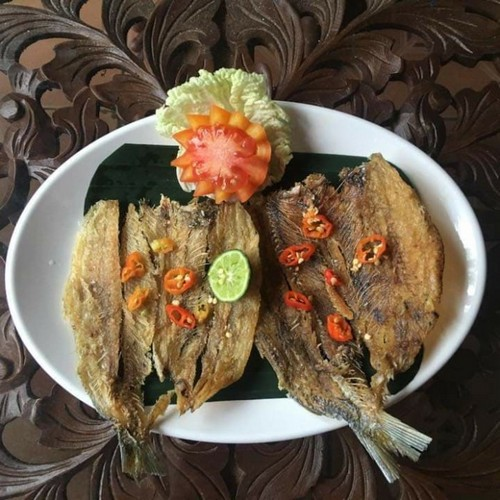sudang lepet: (261, 175, 448, 434), (73, 188, 261, 431)
